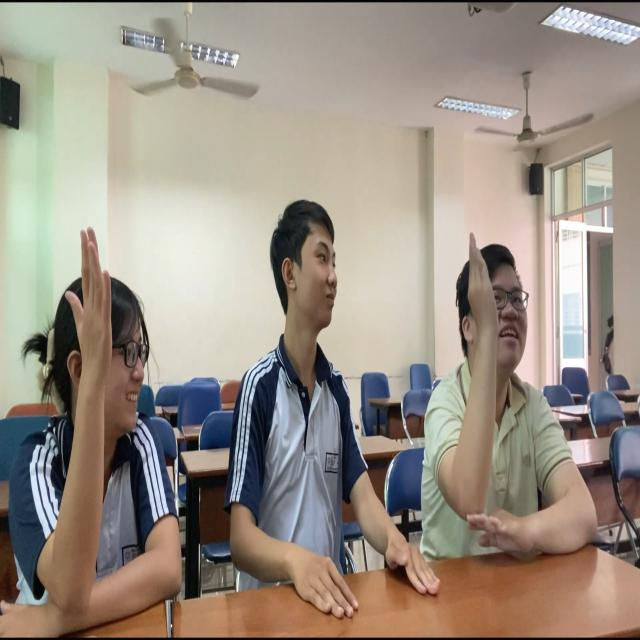raise_hand: (1, 226, 199, 640), (420, 231, 593, 579)
